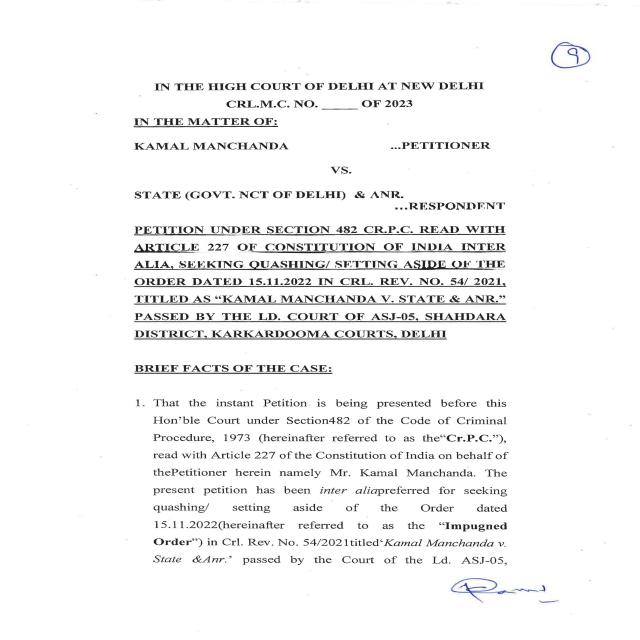page-number: (319, 0, 636, 77)
